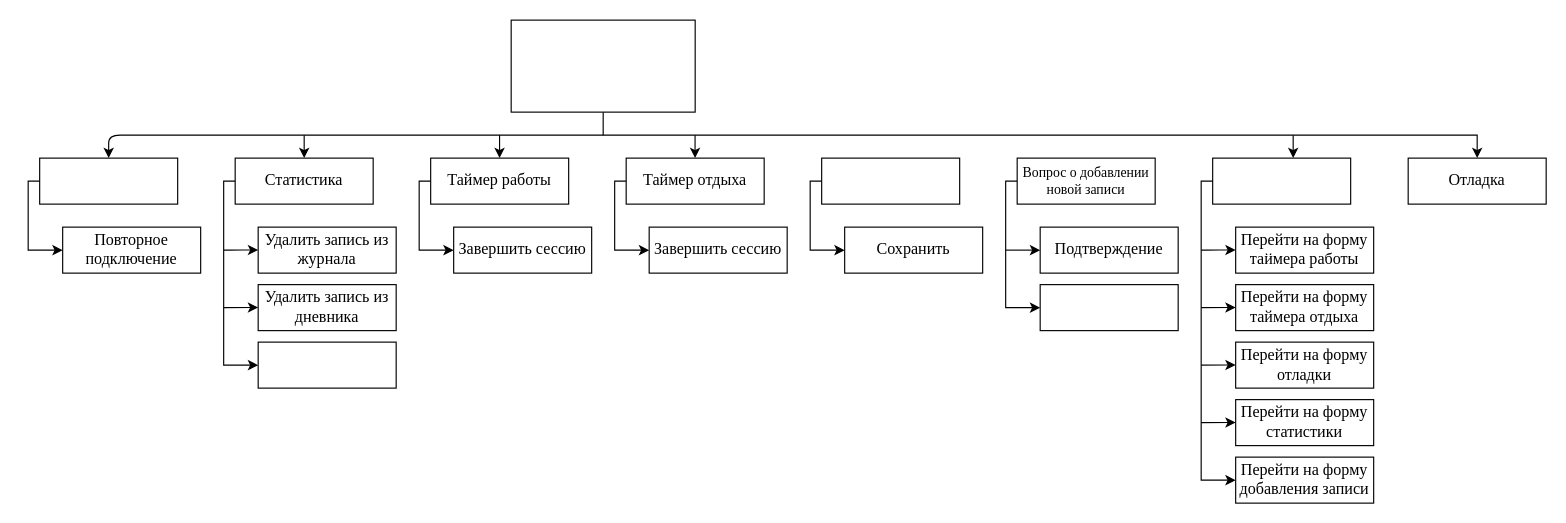
Some shapes in this 1566 by 523 pixel diagram are drawn without their labels. Each missing label, with the centre of its shape:
"Добавить новую запись в дневник" goes at pixel 890 180.
"Меню" goes at pixel 1281 180.
"Отмена" goes at pixel 1108 307.
"Подключение к нейроинтерфейсу" goes at pixel 108 180.
"Приложение для контроля психоэмоционального состояния человека" goes at pixel 602 65.
"Экспорт отчета" goes at pixel 326 364.
